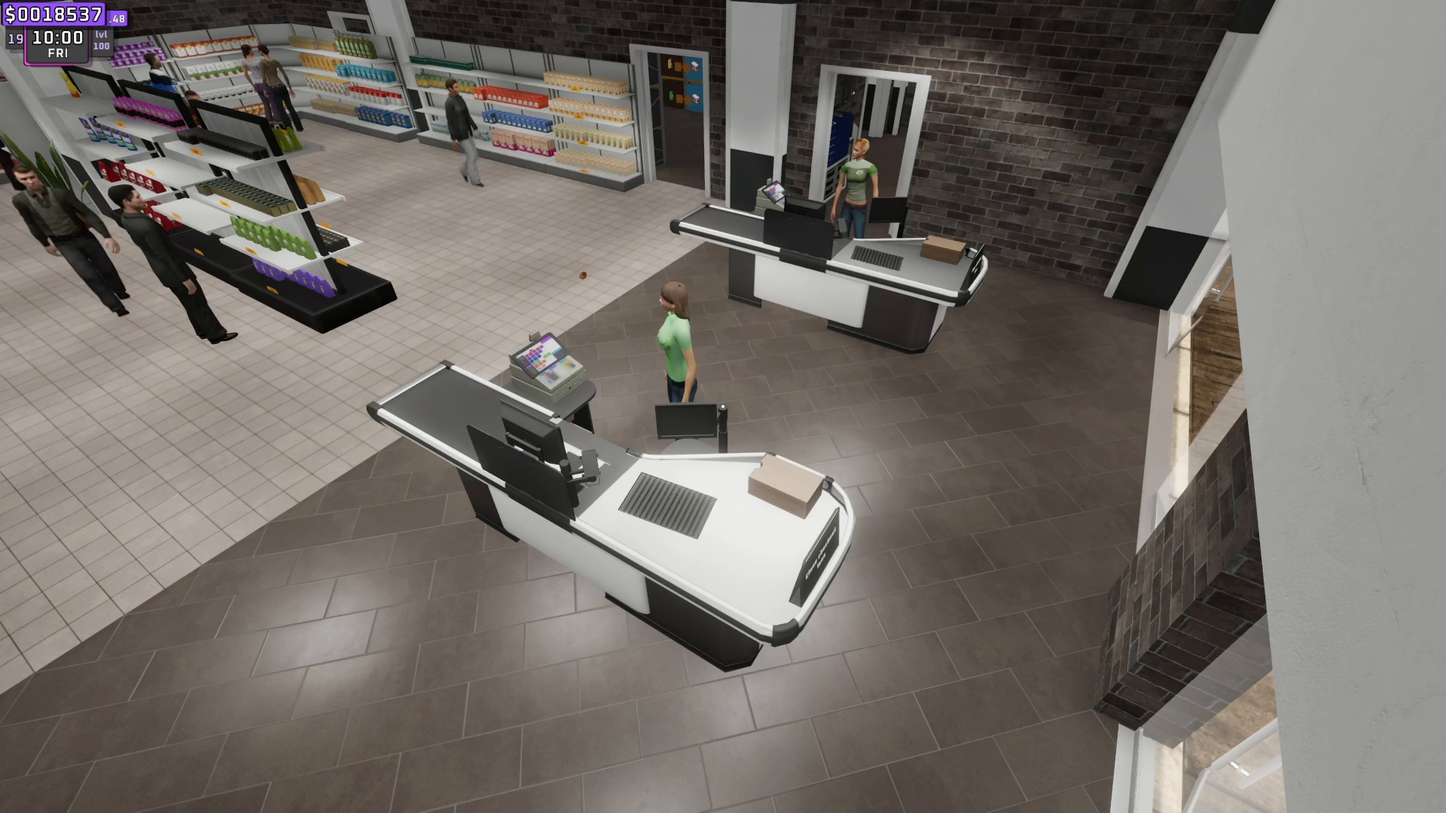Employee: (657, 278, 703, 396), (841, 137, 876, 223)
